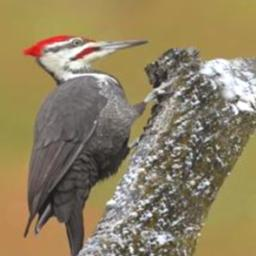Woodpecker: (20, 34, 177, 256)
